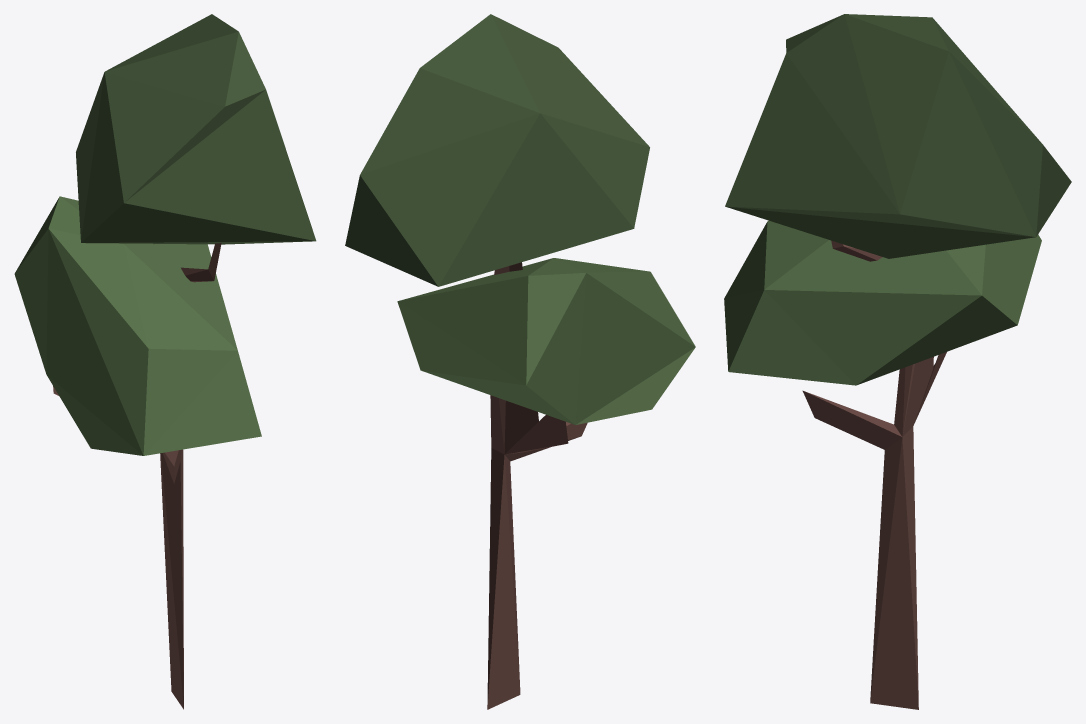
The model's file is CommonTree_3.lod3.glb.
3 renders of one model, left to right at view 1: azimuth 30°, elevation 25°; view 2: azimuth 150°, elevation 25°; view 3: azimuth 270°, elevation 25°, orthographic. The views are drawn at different scales.
Parts seen in each view (by area): view 1: CommonTree_3; view 2: CommonTree_3; view 3: CommonTree_3.
Part boxes in pixels (x1,y1,x2,y2): CommonTree_3: [14, 14, 316, 709]; CommonTree_3: [345, 14, 695, 709]; CommonTree_3: [724, 14, 1071, 709].
Size of the model in its own units: 1.16 by 3.42 by 1.51.
